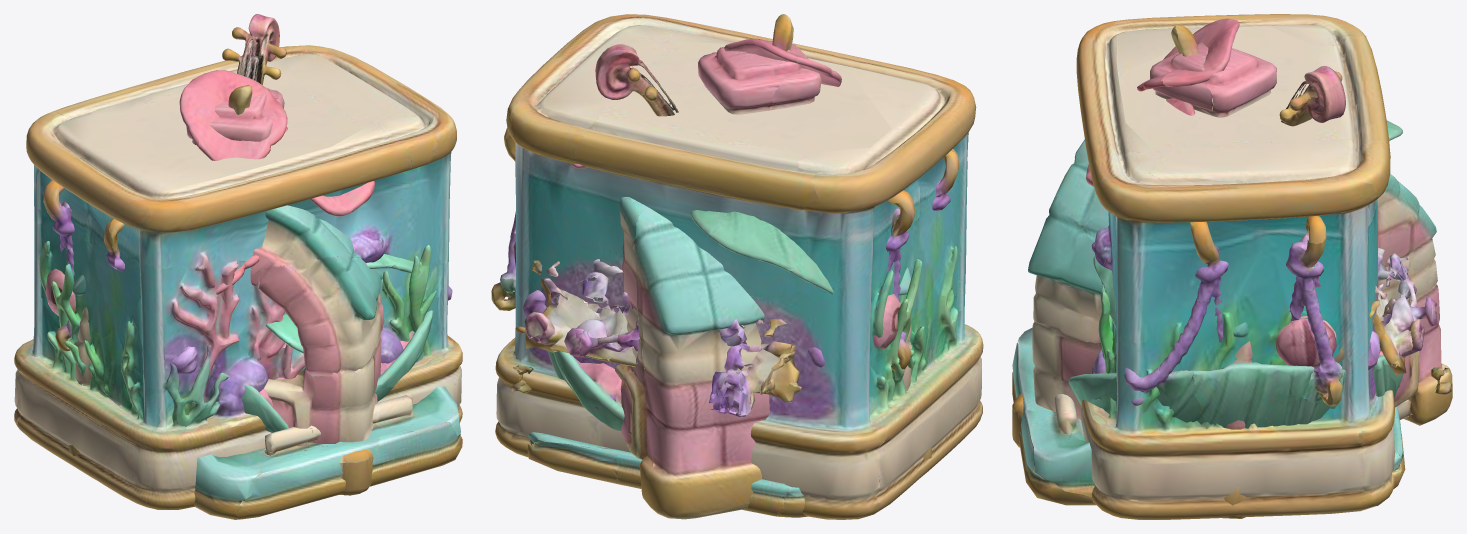
Rendered from store_items_sheet_17_mobile.glb.
3 renders of one model, left to right at view 1: azimuth 30°, elevation 25°; view 2: azimuth 150°, elevation 25°; view 3: azimuth 270°, elevation 25°, orthographic. The views are drawn at different scales.
Parts seen in each view (by area): view 1: ac_fish_tank, brick_oven, ac_typewriter, ac_anthurium, hammock, ac_cello; view 2: ac_fish_tank, brick_oven, ac_typewriter, hammock, ac_anthurium, ac_cello; view 3: ac_fish_tank, brick_oven, hammock, ac_typewriter, ac_anthurium, ac_cello.
Boxes of the visible parts, x1,y1,x2,y2 form: ac_fish_tank: [14, 45, 462, 509]; brick_oven: [69, 87, 384, 495]; ac_typewriter: [45, 268, 462, 519]; ac_anthurium: [179, 70, 413, 359]; hammock: [43, 180, 452, 432]; ac_cello: [222, 14, 286, 84]; ac_fish_tank: [495, 14, 983, 519]; brick_oven: [594, 41, 931, 519]; ac_typewriter: [511, 242, 901, 517]; hammock: [491, 128, 959, 430]; ac_anthurium: [571, 14, 841, 294]; ac_cello: [595, 44, 678, 116]; ac_fish_tank: [1076, 14, 1395, 519]; brick_oven: [1012, 42, 1452, 518]; hammock: [1068, 216, 1403, 428]; ac_typewriter: [1012, 247, 1451, 505]; ac_anthurium: [1086, 18, 1402, 339]; ac_cello: [1279, 66, 1345, 126].
Bounding box in the file's own units: 1.55 × 1.55 × 1.55.
Materials: 1 (1 with a texture image).
